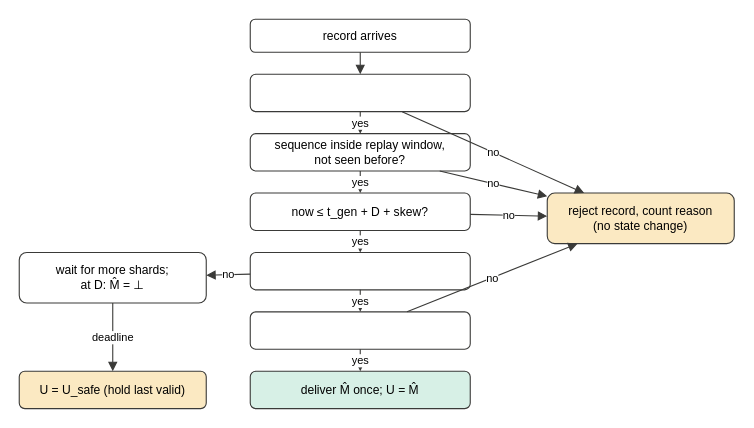
This 754x428 diagram has some shape labels left out. The shapes that lost their labels are listed below. From the top down, each one's centre as x and y in pixels, then its label:
At [359,92]: "AEAD tag, session id, version valid?".
At [359,270]: "≥ k consistent shards for msg_id?".
At [359,330]: "RS decode + AONT canary/length ok?".
